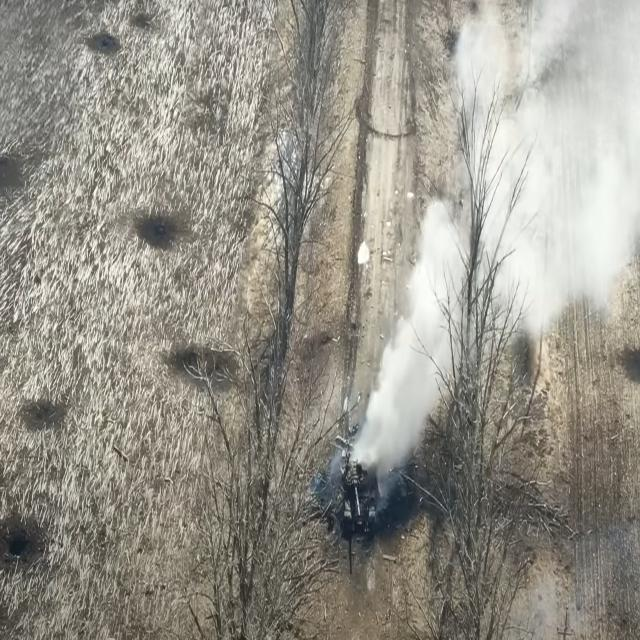Destroyed: (340, 444, 381, 533)
